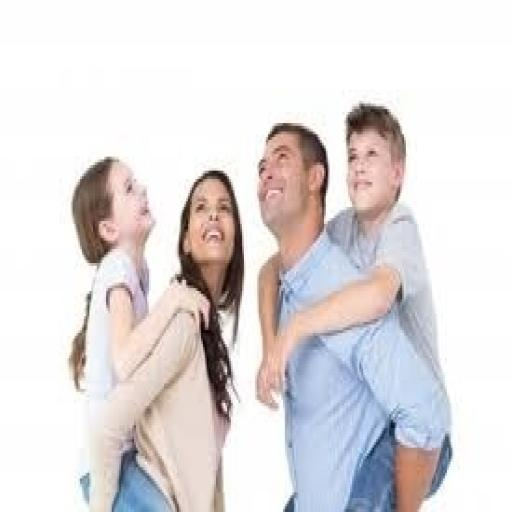hugging: (253, 106, 454, 510), (84, 165, 246, 509)
